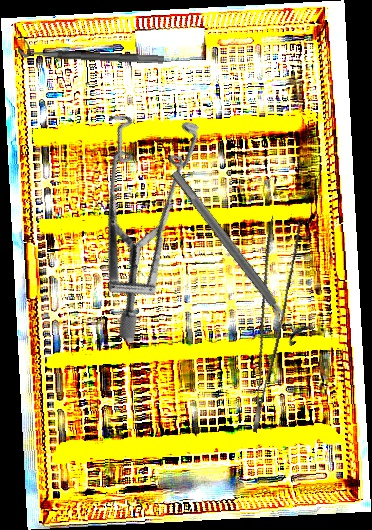Fixation Ring: (160, 162, 317, 348), (17, 35, 165, 65)
Speculum: (5, 78, 270, 347)
Tissue Forceps: (217, 215, 312, 433)
